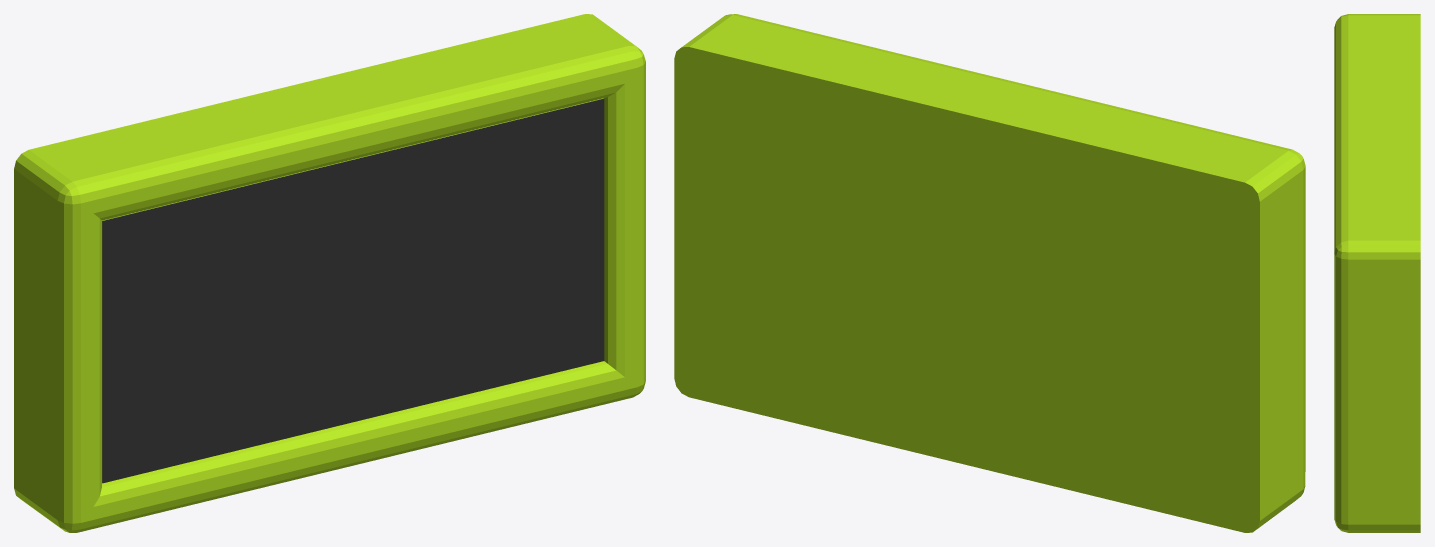
File: score.fbx
The picture shows the model from 3 angles, left to right: view 1: azimuth 30°, elevation 25°; view 2: azimuth 150°, elevation 25°; view 3: azimuth 270°, elevation 25°; orthographic projection. The views are drawn at different scales.
Visible parts, largest first — view 1: Cube; view 2: Cube; view 3: Cube.
Part boxes in pixels (<box>): Cube: <box>14,14,645,532</box>; Cube: <box>674,14,1305,532</box>; Cube: <box>1334,14,1420,532</box>.
Bounding box in the file's own units: 3.5 × 2 × 0.5397.
